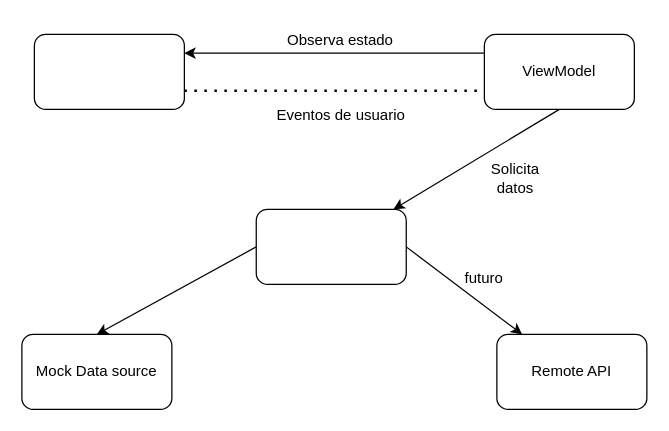
Image size: 669x431. Some labels were removed from this diagram. The shapes that lost their labels are listed below. From the top down, each one's centre as x and y in pixels, then its label:
the point at 108,71: View
the point at 330,246: Repository
